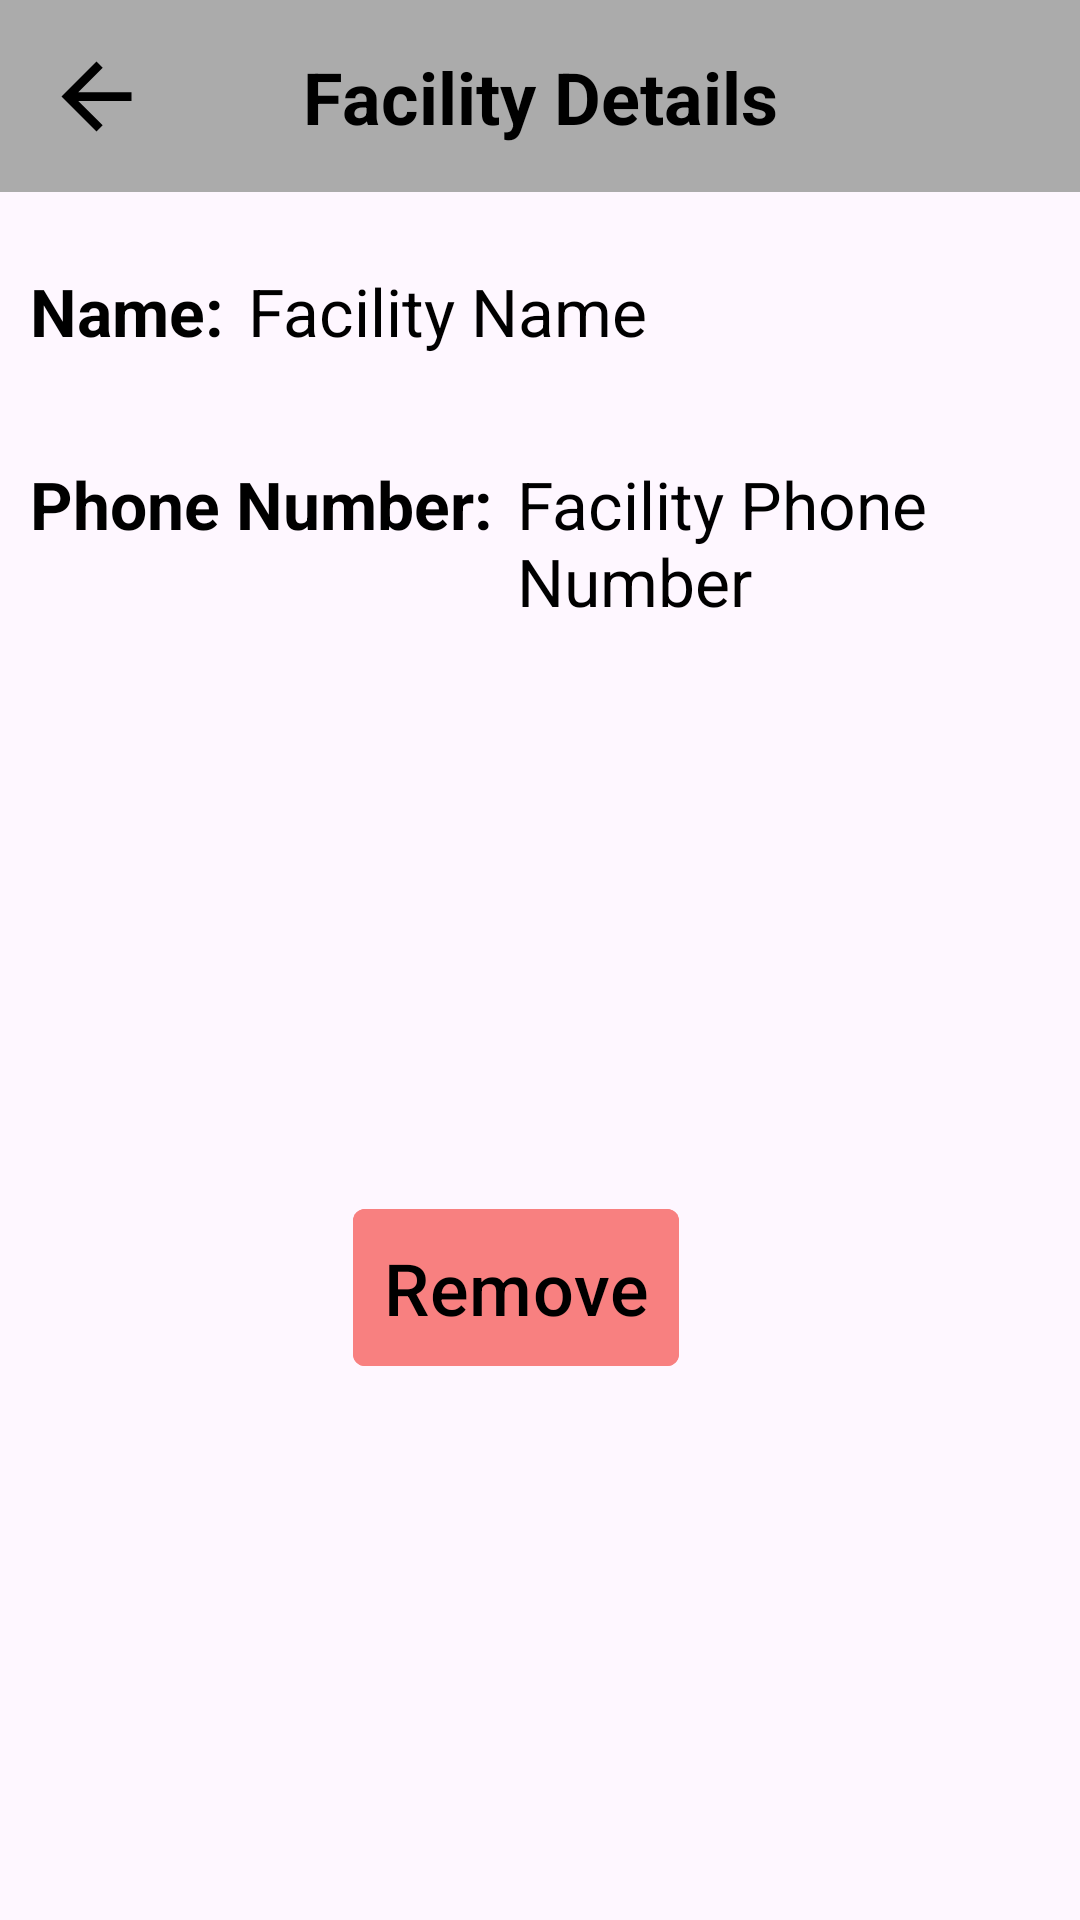

Where icons sit on this 1080x1920 app screen, as bbox=[x1, y1, x2, y2]:
Go Back: bbox=[61, 61, 132, 132]
